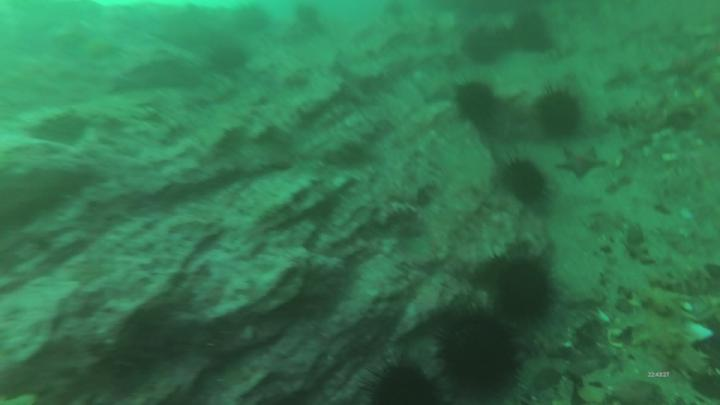echinus: (432, 304, 525, 400), (481, 246, 560, 326), (356, 353, 444, 405), (531, 83, 586, 145), (496, 151, 551, 208), (450, 76, 502, 129), (460, 25, 509, 70), (509, 11, 557, 56), (232, 1, 276, 40), (208, 43, 251, 75), (293, 4, 324, 30), (379, 1, 410, 21)
holothurian: (612, 308, 711, 380), (578, 360, 712, 405), (629, 279, 698, 326), (603, 101, 671, 130)
starfish: (552, 144, 614, 183)
